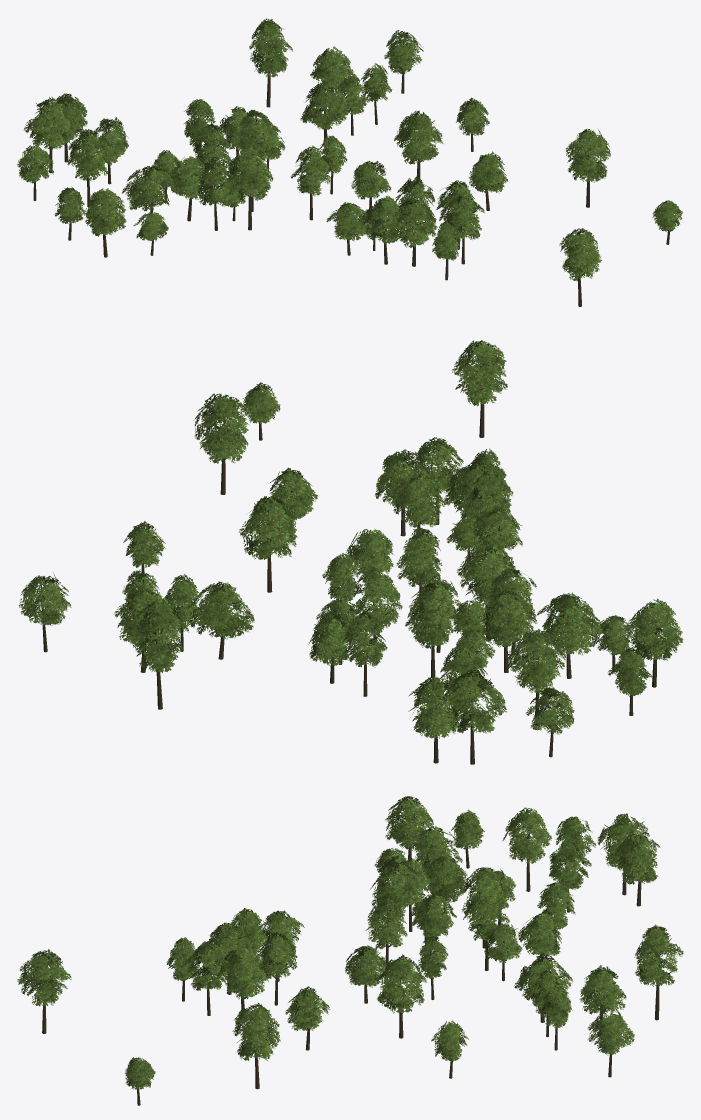
The model's file is TRB8-FOREST-CHUNK-8-4.glb.
3 renders of one model, top to bottom at view 1: azimuth 30°, elevation 25°; view 2: azimuth 150°, elevation 25°; view 3: azimuth 270°, elevation 25°, orthographic. The views are drawn at different scales.
Visible parts, largest first — view 1: TRB8-FOREST-CHUNK-8-4; view 2: TRB8-FOREST-CHUNK-8-4; view 3: TRB8-FOREST-CHUNK-8-4.
Boxes of the visible parts, x1,y1,x2,y2 form: TRB8-FOREST-CHUNK-8-4: [17, 18, 682, 306]; TRB8-FOREST-CHUNK-8-4: [18, 340, 683, 764]; TRB8-FOREST-CHUNK-8-4: [17, 796, 683, 1105].
Bounding box in the file's own units: 36.32 × 6.62 × 41.
Materials: 2 (1 with a texture image).
